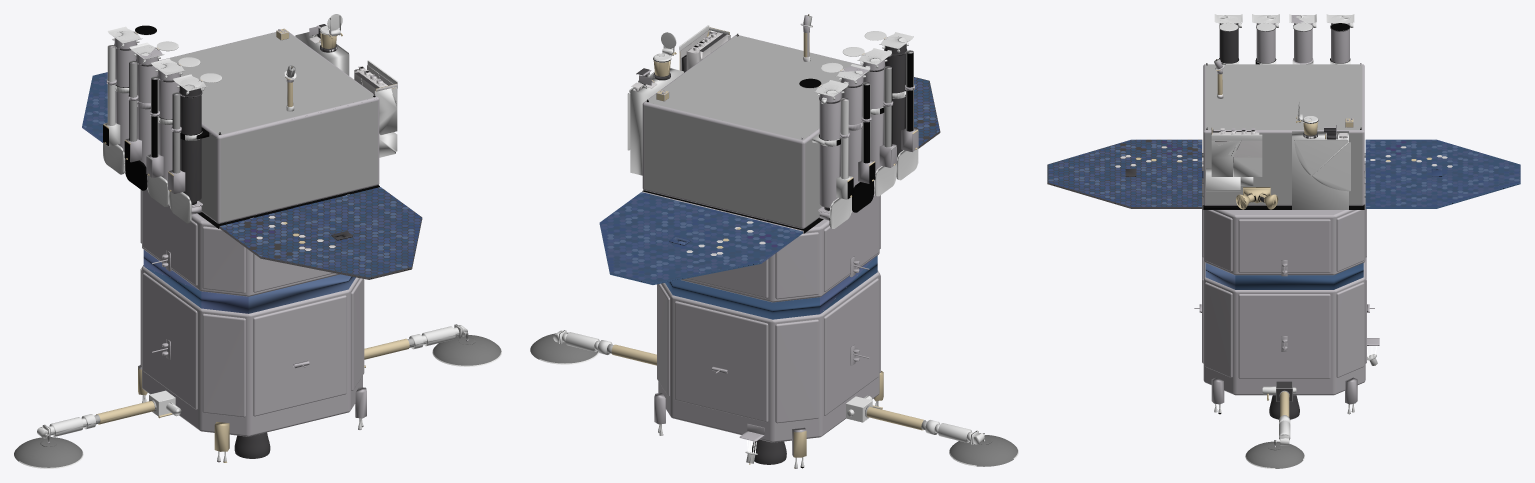
File: sdo.glb
3 views of the same model, side by side, from view 1: azimuth 30°, elevation 25°; view 2: azimuth 150°, elevation 25°; view 3: azimuth 270°, elevation 25° (orthographic). The views are drawn at different scales.
Visible parts, largest first — view 1: Fake; view 2: Fake; view 3: Fake.
Part boxes in pixels (x1,y1,x2,y2): Fake: (14, 14, 501, 468); Fake: (530, 14, 1018, 468); Fake: (1047, 14, 1520, 468).
Bounding box in the file's own units: 37.02 × 30.75 × 37.03.
